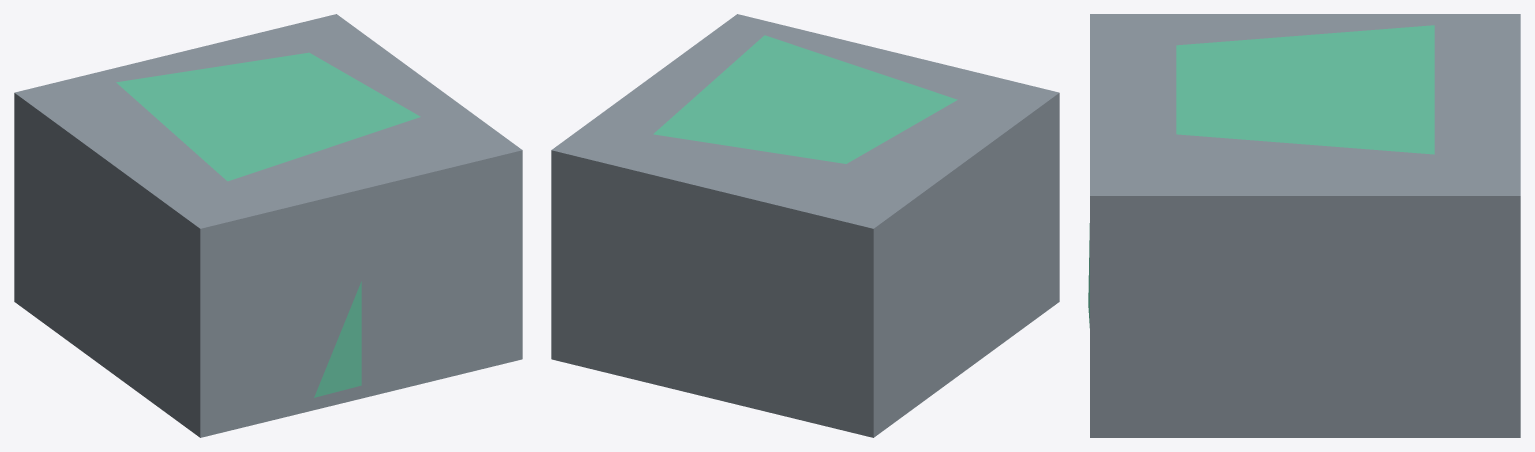
File: CO_ConYard_LOD1.glb
The picture shows the model from 3 angles, left to right: view 1: azimuth 30°, elevation 25°; view 2: azimuth 150°, elevation 25°; view 3: azimuth 270°, elevation 25°; orthographic projection. The views are drawn at different scales.
Parts seen in each view (by area): view 1: EntranceGate; view 2: EntranceGate; view 3: EntranceGate.
Part boxes in pixels (bbox=[...]): EntranceGate: bbox=[14, 14, 522, 437]; EntranceGate: bbox=[551, 14, 1059, 437]; EntranceGate: bbox=[1088, 14, 1520, 437].
Bounding box in the file's own units: 800 × 548 × 803.
